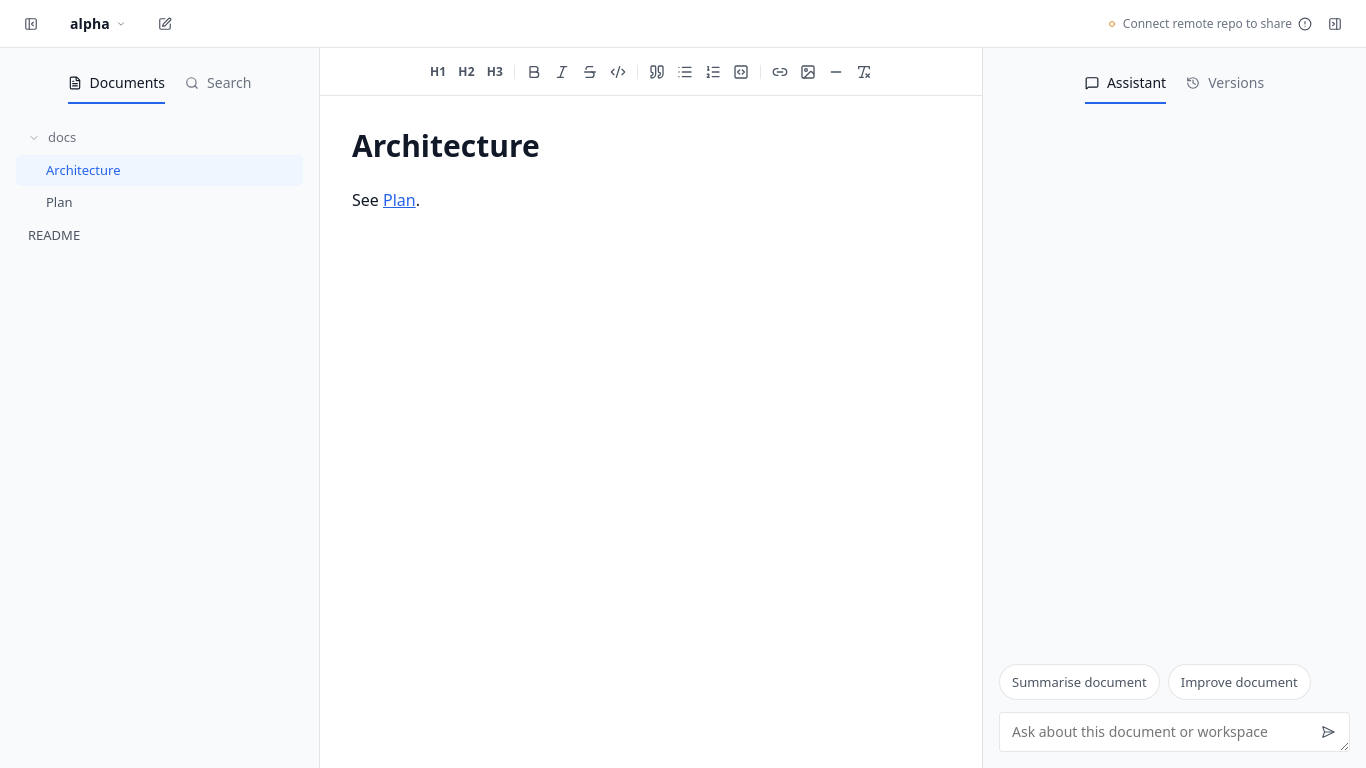
Test: App › shows connect-remote CTA when workspace has no remote and opens connect dialog on click
Expected: the element with test id "workspace-sidebar" is shown, [0,48,320,767]
Expected: the text "Connect remote repo to share" is shown, [1123,18,1292,30]
Click the button with aria-label "Sync now": [1209, 24] box [1107,16,1312,30]
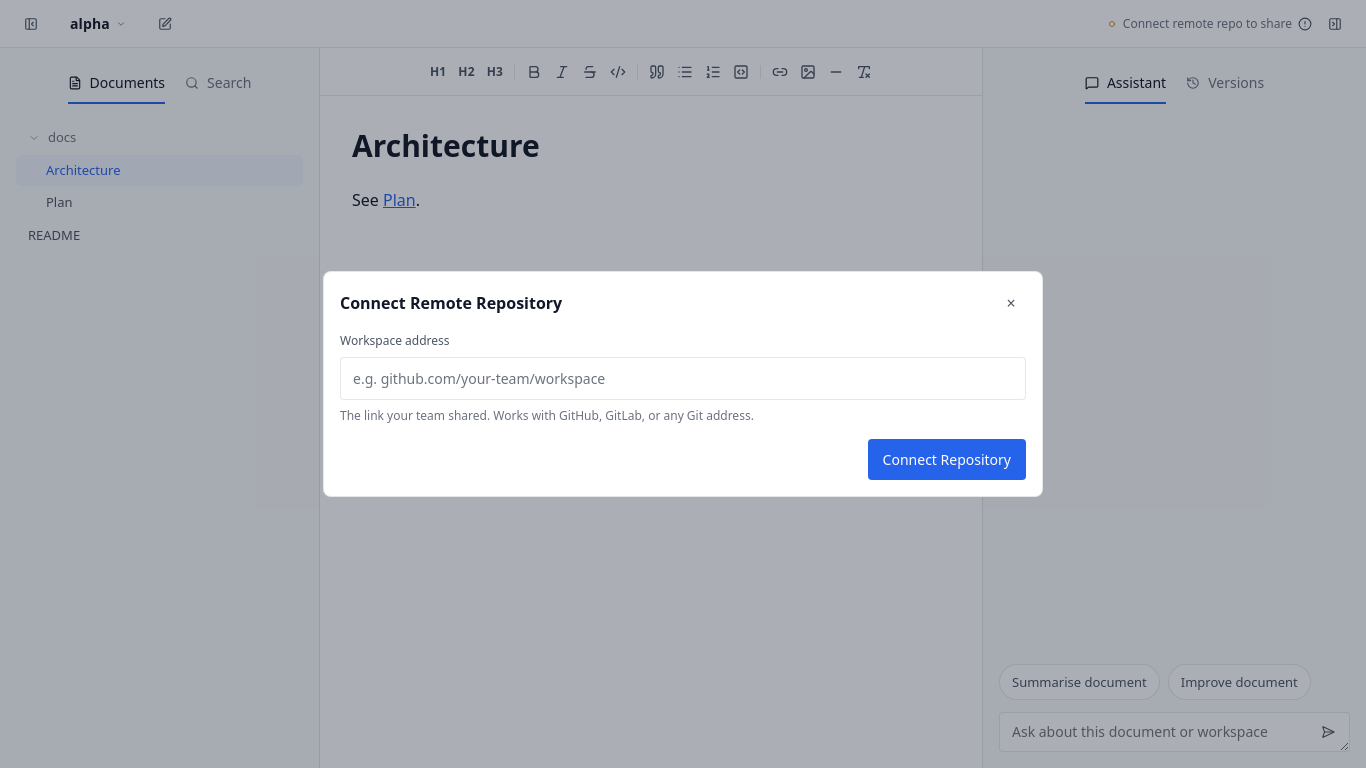
Expected: the dialog "Remote Repository" is shown, [323,271,1043,497]
